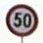limite 50: (4, 3, 39, 37)
